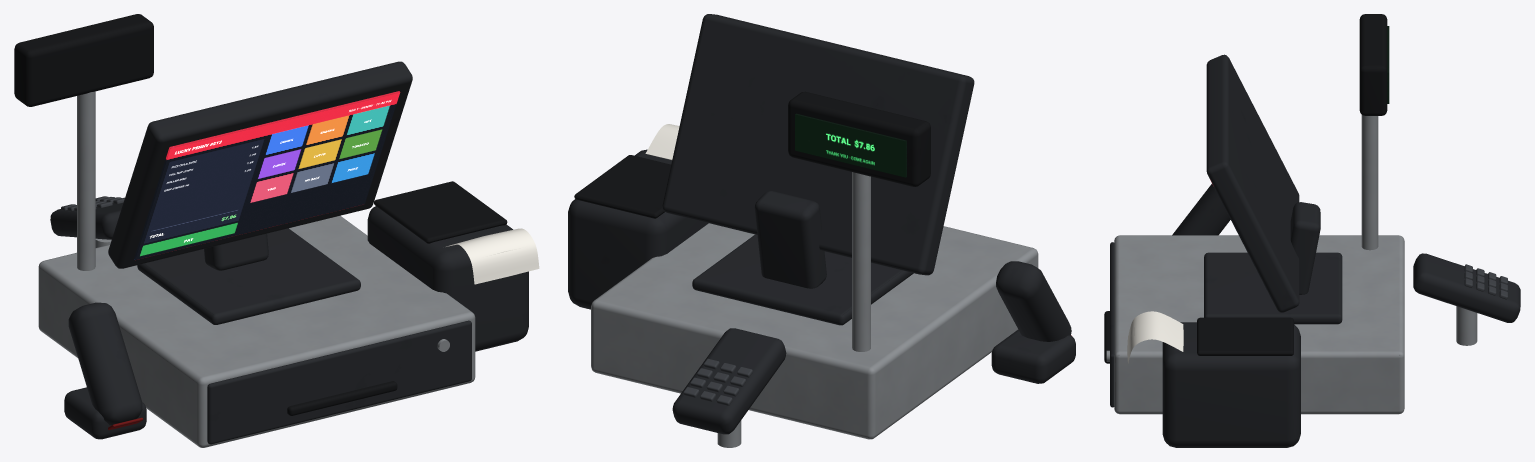
The model's file is SM_Register.glb.
The picture shows the model from 3 angles, left to right: view 1: azimuth 30°, elevation 25°; view 2: azimuth 150°, elevation 25°; view 3: azimuth 270°, elevation 25°; orthographic projection. The views are drawn at different scales.
Visible parts, largest first — view 1: SM_Register; view 2: SM_Register; view 3: SM_Register.
Part boxes in pixels (x1,y1,x2,y2): SM_Register: [14, 14, 539, 447]; SM_Register: [568, 14, 1075, 447]; SM_Register: [1104, 14, 1520, 447].
Bounding box in the file's own units: 0.64 × 0.43 × 0.6016.
8 materials, 8 textured.
